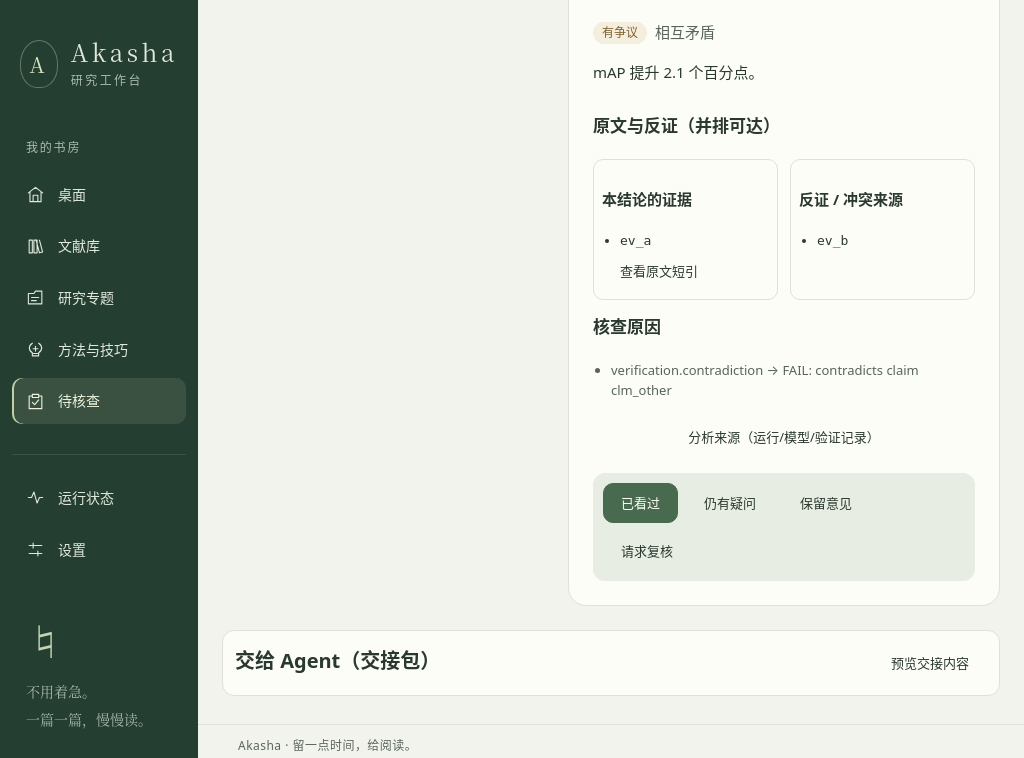
Scenario: UX-037 agent handoff manifest, citations, hashes and capacity › previews the scope and what will be included before generating
(page scrolled)
Click the button "预览交接内容": click(930, 663) [873,643,987,683]
(page scrolled)
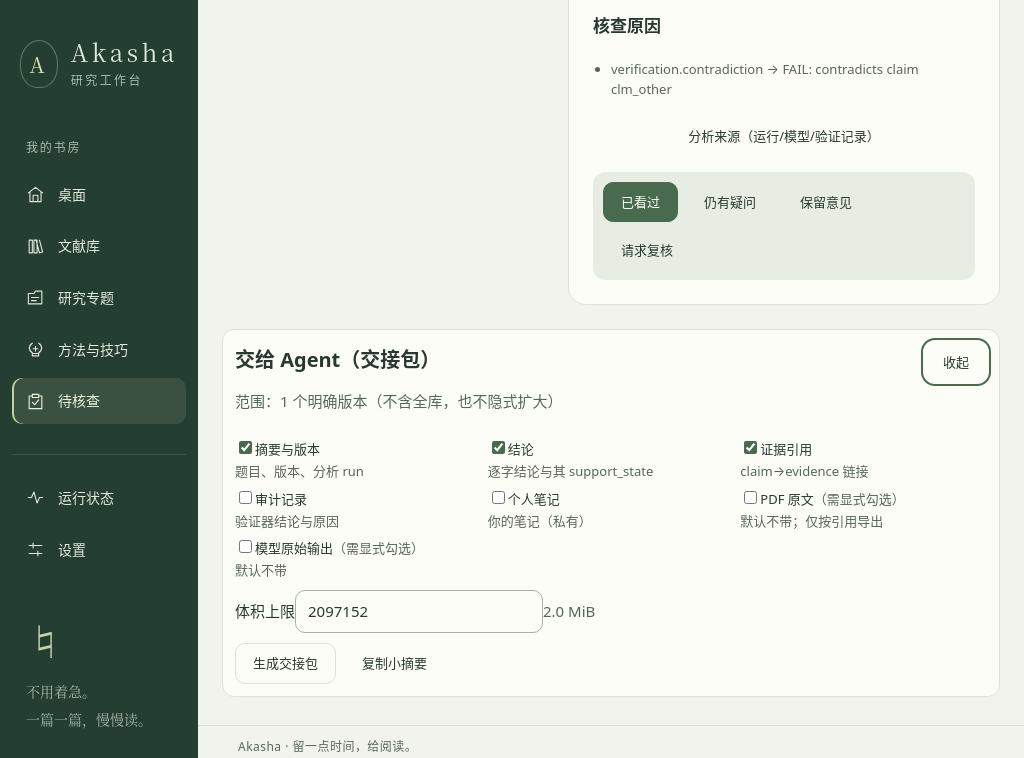
Result: the text with test id "handoff-scope" shows "1 个明确版本" at [235,391,562,411]
Result: the text with test id "handoff-scope" shows "不含全库" at [289,391,562,411]
Result: the checkbox labelled "摘要与版本" is checked at [239,441,252,454]
